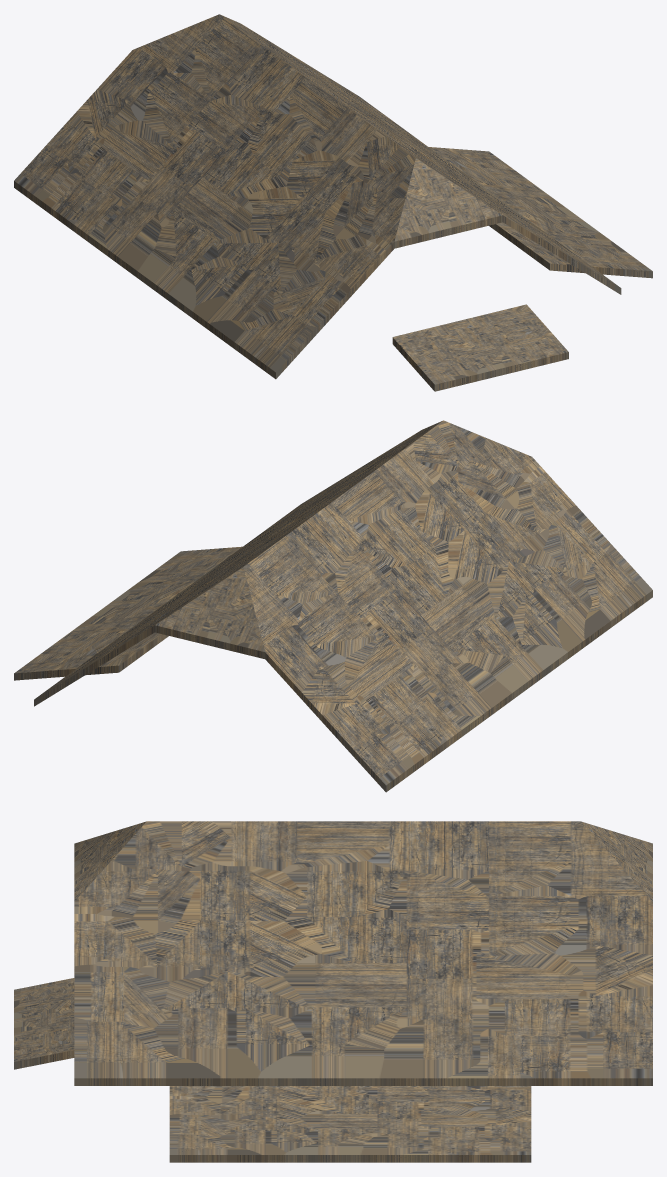
The model's file is BW_ElderCottage01_RoofDeck.fbx.
3 views of the same model, one above another, from view 1: azimuth 30°, elevation 25°; view 2: azimuth 150°, elevation 25°; view 3: azimuth 270°, elevation 25° (orthographic). The views are drawn at different scales.
Visible parts, largest first — view 1: BW_ElderCottage01_RoofDeck; view 2: BW_ElderCottage01_RoofDeck; view 3: BW_ElderCottage01_RoofDeck.
Boxes of the visible parts, box(x1,y1,x2,y2) form: BW_ElderCottage01_RoofDeck: box(14, 14, 652, 391); BW_ElderCottage01_RoofDeck: box(14, 420, 652, 792); BW_ElderCottage01_RoofDeck: box(14, 821, 652, 1162).
Bounding box in the file's own units: 8.15 × 3.49 × 9.72.
